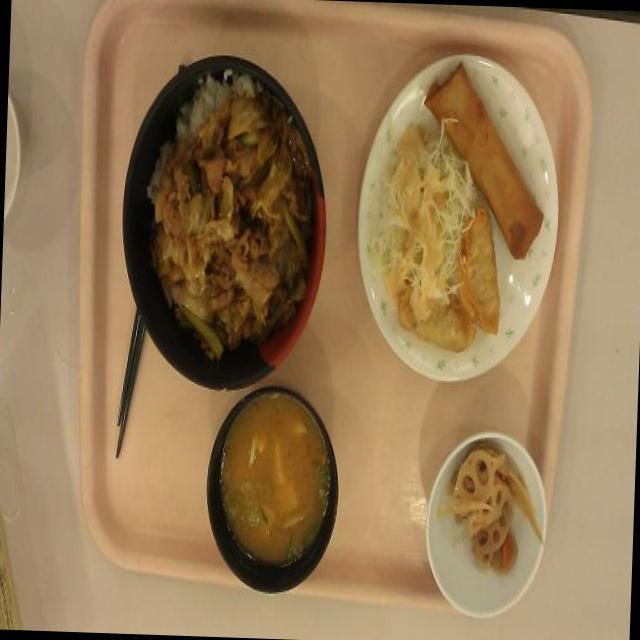Green Salad: (372, 170, 469, 288)
